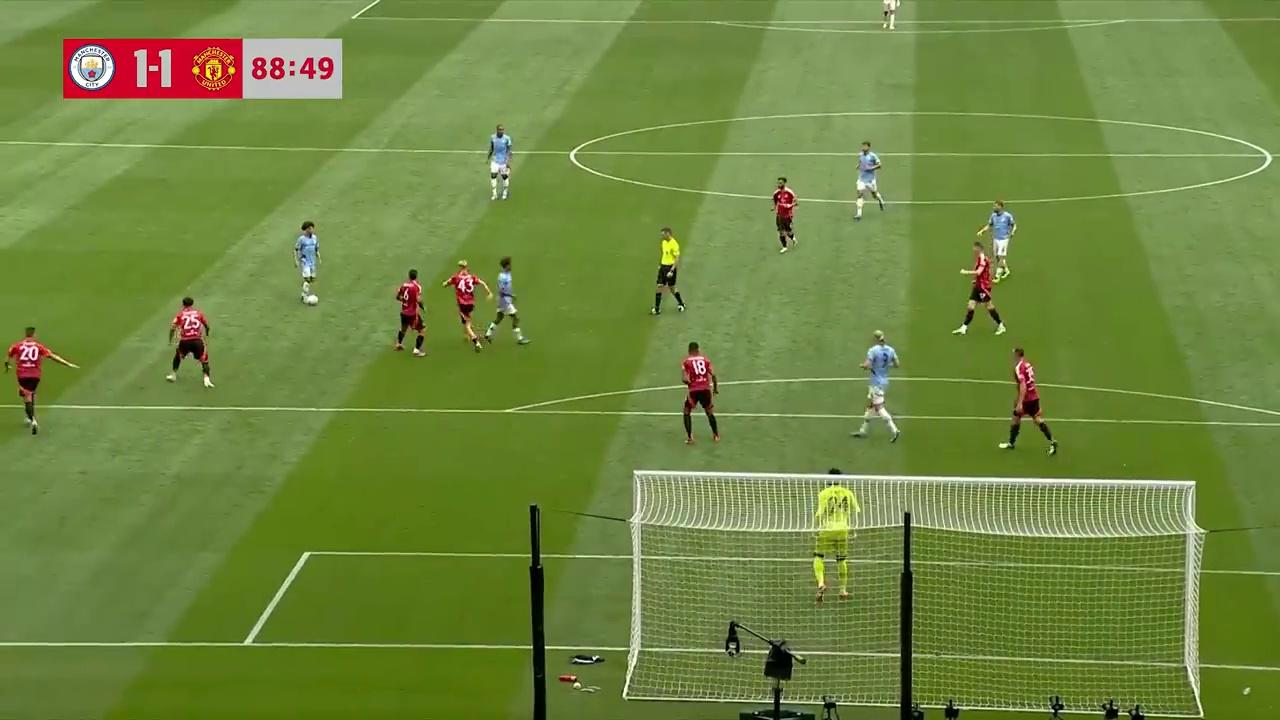ball: (305, 292, 318, 304), (1241, 684, 1250, 697)
player: (998, 345, 1058, 455), (811, 470, 857, 606), (5, 325, 58, 435), (855, 329, 902, 443), (951, 240, 1006, 336), (166, 295, 214, 388), (483, 255, 530, 349), (442, 260, 490, 352), (681, 340, 720, 446), (978, 199, 1017, 280), (393, 269, 427, 356), (293, 220, 322, 305), (854, 140, 885, 219), (487, 124, 514, 201), (771, 177, 797, 252), (881, 0, 900, 30)
referee: (650, 226, 685, 315)
